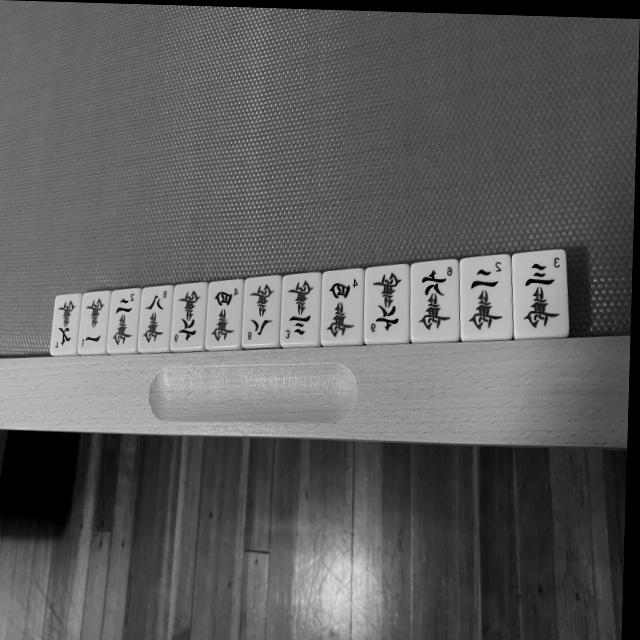m1: (80, 294, 107, 352)
m2: (465, 257, 508, 337), (110, 292, 137, 350)
m3: (518, 254, 564, 336), (282, 276, 316, 343)
m4: (321, 274, 360, 340), (210, 283, 241, 345)
m6: (413, 263, 455, 335), (367, 268, 405, 339), (174, 286, 203, 345)
m7: (53, 299, 78, 351)
m8: (245, 279, 278, 344), (141, 288, 168, 346)
